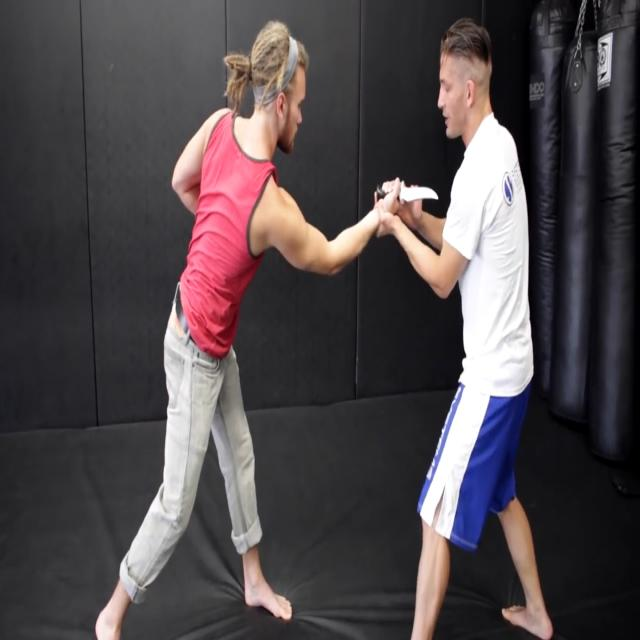knife: (377, 184, 442, 206)
